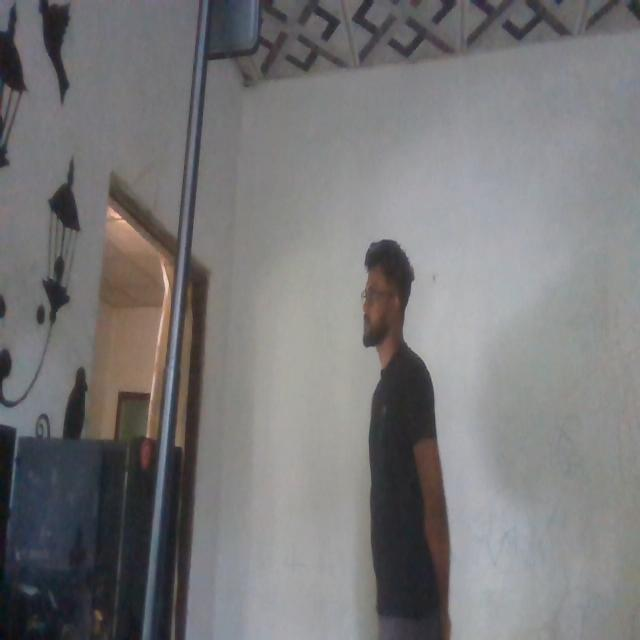Person: (349, 243, 462, 640)
